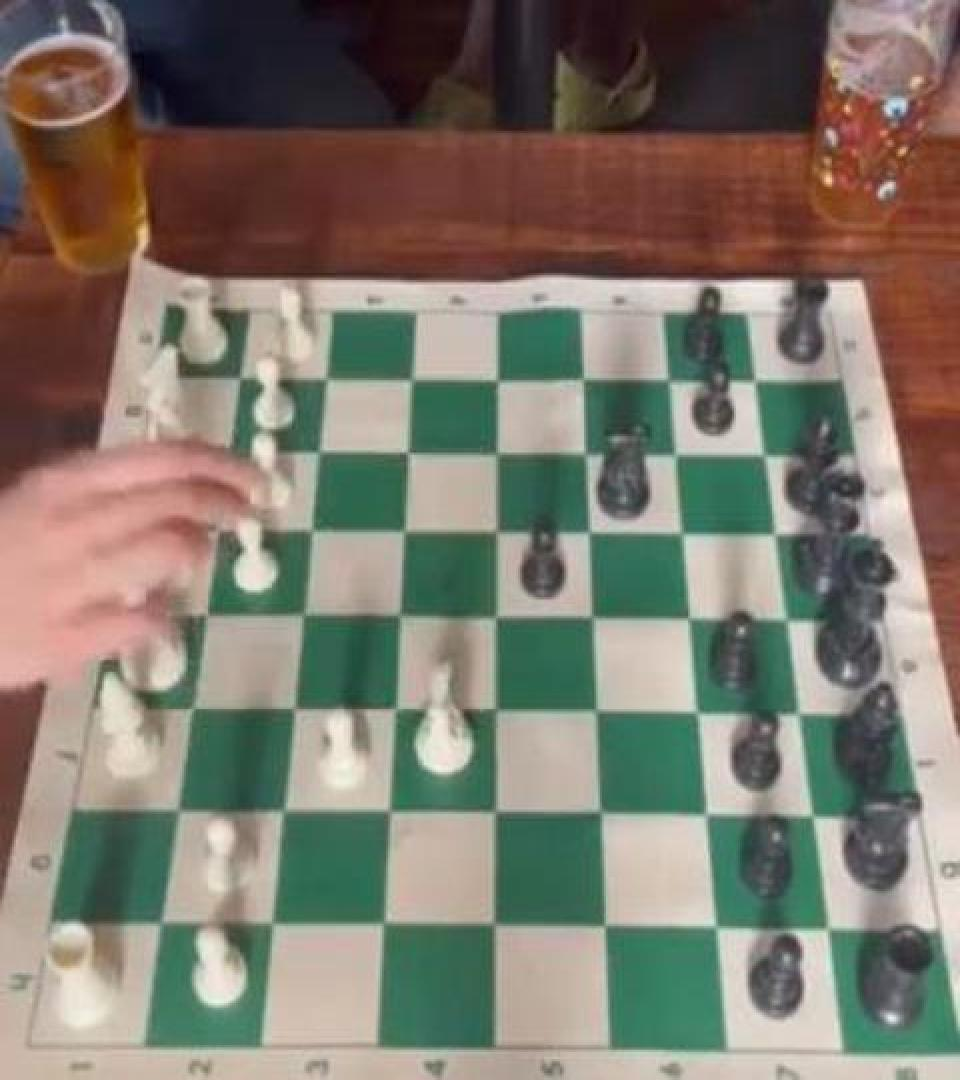xcorner: (479, 354, 517, 399), (393, 353, 431, 398), (306, 352, 344, 397), (747, 431, 785, 476), (658, 430, 696, 475), (569, 429, 607, 474), (572, 508, 610, 553), (479, 508, 517, 553), (385, 507, 423, 552), (292, 506, 330, 551), (769, 597, 807, 642), (284, 592, 322, 637), (186, 591, 224, 636), (781, 690, 819, 735), (680, 689, 718, 734), (579, 689, 617, 734), (478, 688, 516, 733), (372, 789, 410, 834), (265, 788, 303, 833), (158, 788, 196, 833), (366, 901, 404, 946), (255, 901, 293, 946), (143, 900, 181, 945), (737, 358, 775, 402), (651, 357, 689, 401), (565, 356, 603, 400), (220, 351, 258, 395), (479, 428, 517, 472), (389, 427, 427, 471), (299, 427, 337, 471), (209, 426, 247, 470), (757, 511, 795, 555), (665, 510, 703, 554), (198, 505, 236, 549), (672, 596, 710, 640), (576, 595, 614, 639), (479, 594, 517, 638), (381, 594, 419, 638), (377, 687, 415, 731), (275, 686, 313, 730), (173, 686, 211, 730), (795, 792, 833, 836), (689, 792, 727, 836), (584, 791, 622, 835), (478, 791, 516, 835), (809, 904, 847, 948), (699, 904, 737, 948), (588, 903, 626, 947), (478, 903, 516, 947)
